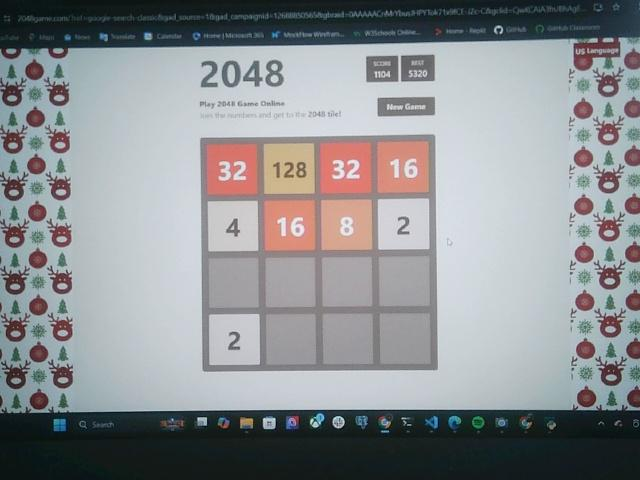board: (201, 137, 438, 372)
tile: (209, 314, 261, 366), (321, 143, 373, 194), (321, 200, 373, 251), (208, 201, 259, 252), (265, 200, 316, 251), (378, 199, 430, 249), (378, 143, 429, 193), (208, 145, 258, 194), (265, 144, 314, 194)
